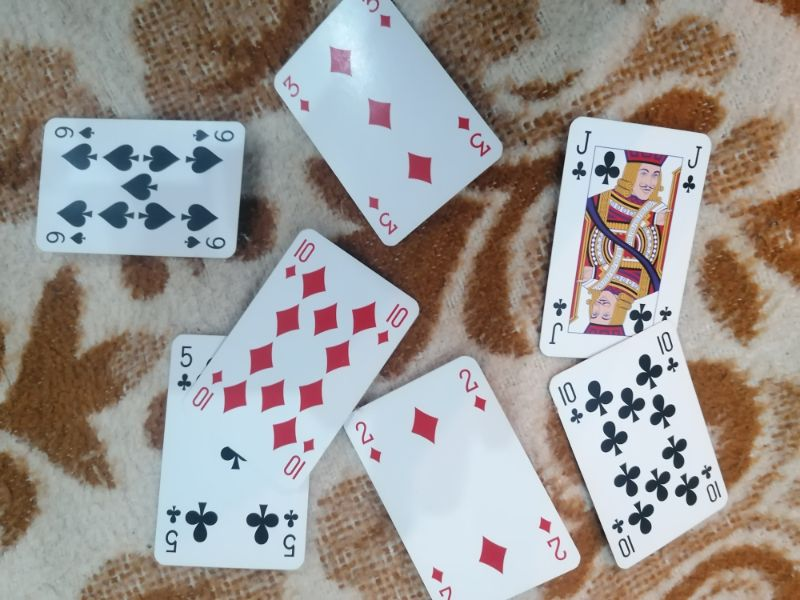2d: (455, 365, 490, 413), (536, 514, 569, 563), (351, 418, 385, 463)
3d: (455, 111, 493, 158), (363, 192, 399, 235), (279, 73, 315, 114), (360, 1, 393, 32)
5c: (161, 503, 185, 555), (279, 506, 301, 562), (175, 343, 197, 397)
9s: (190, 126, 237, 146), (183, 234, 228, 252), (44, 229, 90, 246), (50, 123, 98, 139)
Jc: (569, 126, 596, 183), (679, 142, 706, 195), (544, 294, 570, 347)
Tc: (554, 379, 587, 426), (609, 516, 639, 559), (654, 329, 682, 374), (698, 463, 724, 505)
Td: (281, 435, 319, 481), (374, 303, 412, 347), (282, 237, 319, 282), (191, 369, 227, 411)
